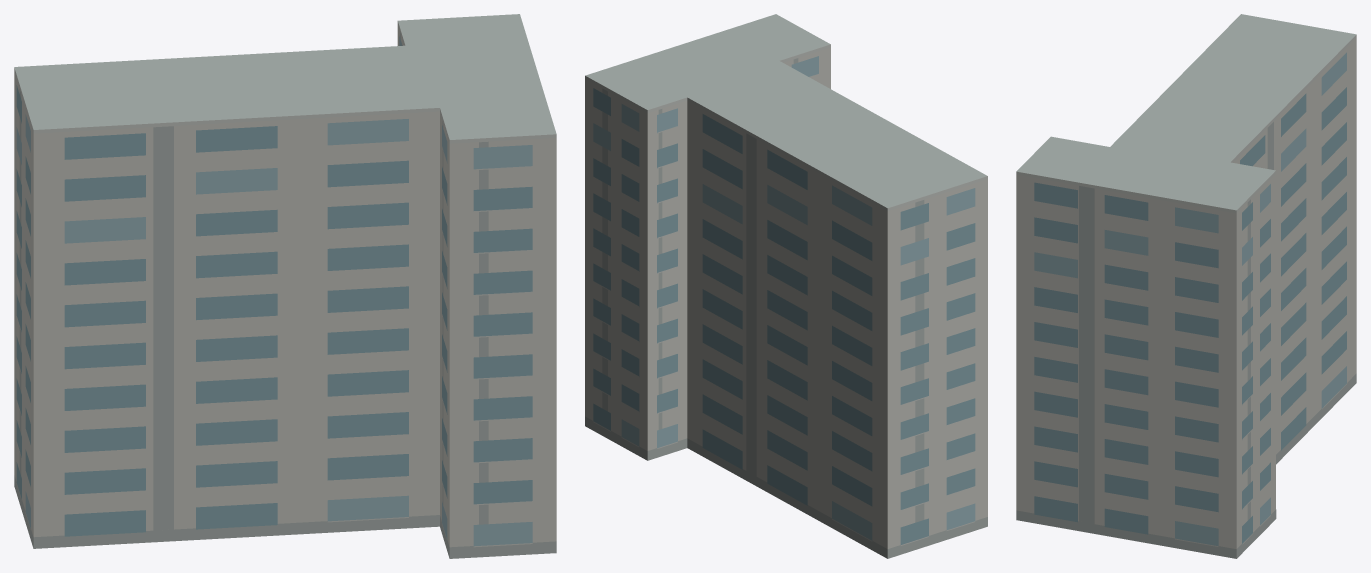
Rendered from residential-862e7be4-9ed0-4702-9dc3-449a338de800.glb.
The picture shows the model from 3 angles, left to right: view 1: azimuth 30°, elevation 25°; view 2: azimuth 150°, elevation 25°; view 3: azimuth 270°, elevation 25°; orthographic projection. The views are drawn at different scales.
Visible parts, largest first — view 1: residential-862e7be4-9ed0-4702-9dc3-449a338de800.tmp; view 2: residential-862e7be4-9ed0-4702-9dc3-449a338de800.tmp; view 3: residential-862e7be4-9ed0-4702-9dc3-449a338de800.tmp.
Boxes of the visible parts, x1,y1,x2,y2 form: residential-862e7be4-9ed0-4702-9dc3-449a338de800.tmp: (14,14,556,558); residential-862e7be4-9ed0-4702-9dc3-449a338de800.tmp: (585,14,987,558); residential-862e7be4-9ed0-4702-9dc3-449a338de800.tmp: (1016,14,1356,558).
Size of the model in its own units: 32.64 by 27 by 23.91.
